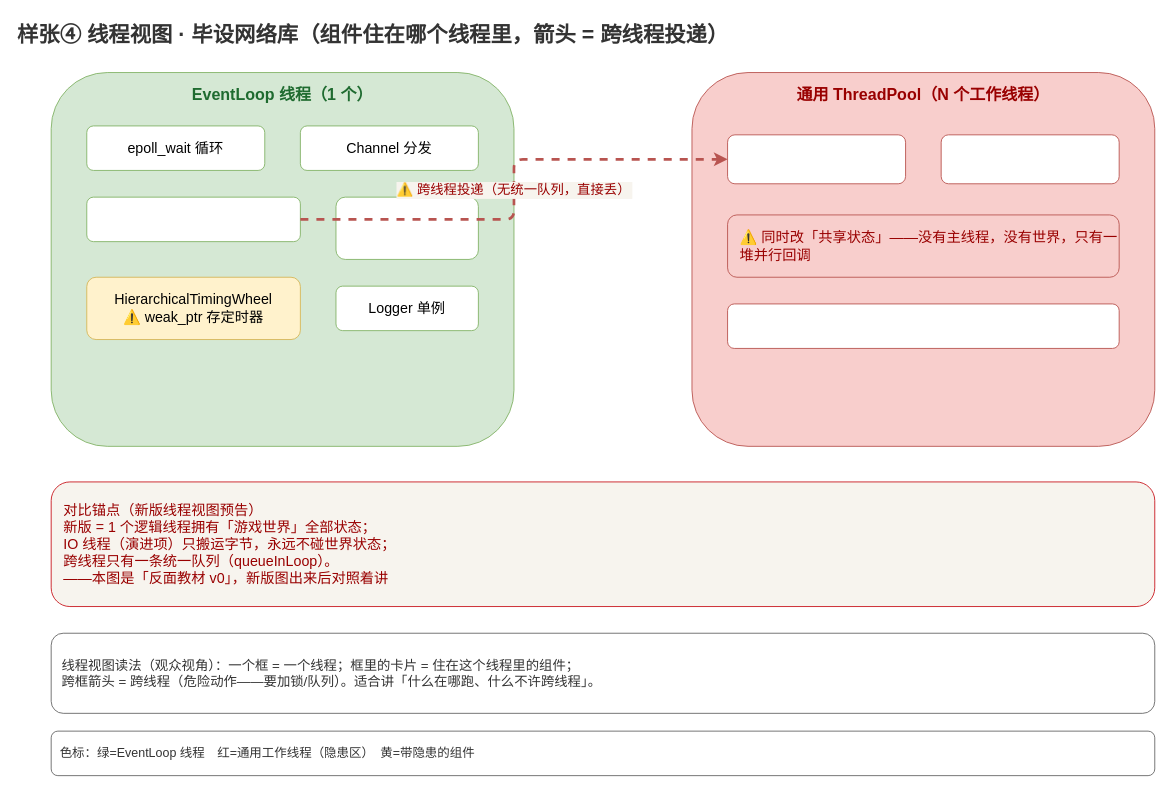
Image size: 1170x791. Some labels were removed from this diagram. The shapes that lost their labels are listed below. From the top down, each one's centre as x and y in pixels, then its label:
At (x=816, y=159): "业务回调 A（请求 1）".
At (x=1029, y=159): "业务回调 B（请求 2）".
At (x=193, y=219): "HTTP / WebSocket 解析".
At (x=406, y=227): "listen_socket + conn fd 们".
At (x=923, y=325): "⚠️ 回调里再调 Logger → 锁竞争".
